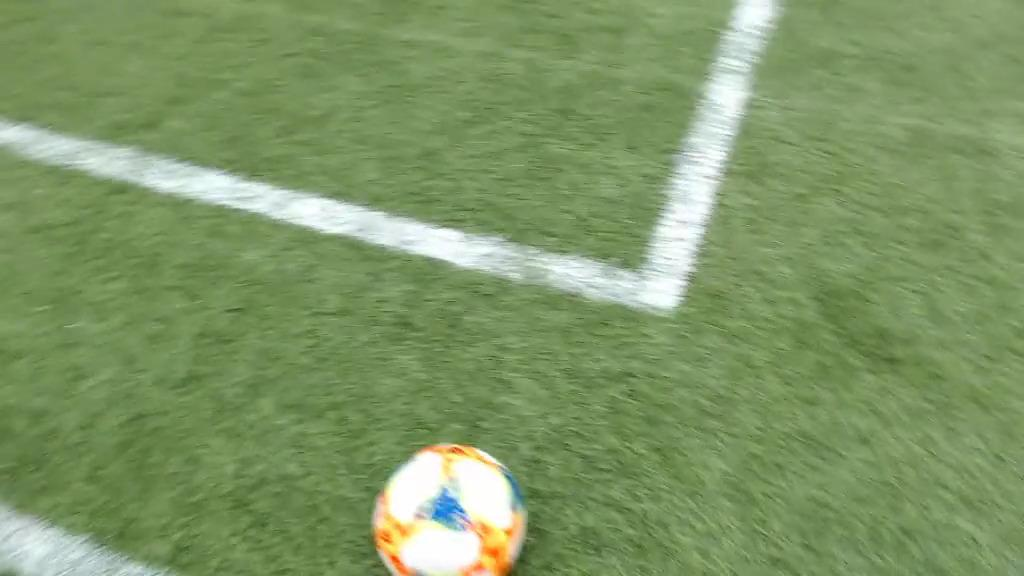ball: (374, 443, 525, 576)
